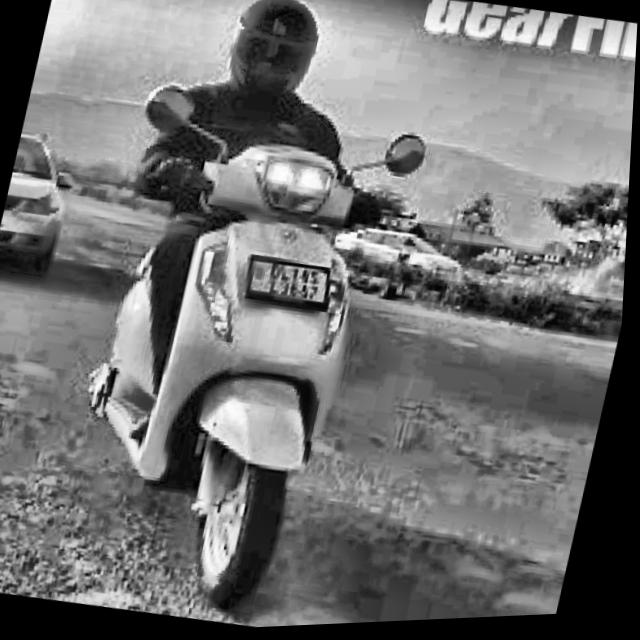motorcycle: (26, 62, 458, 638)
